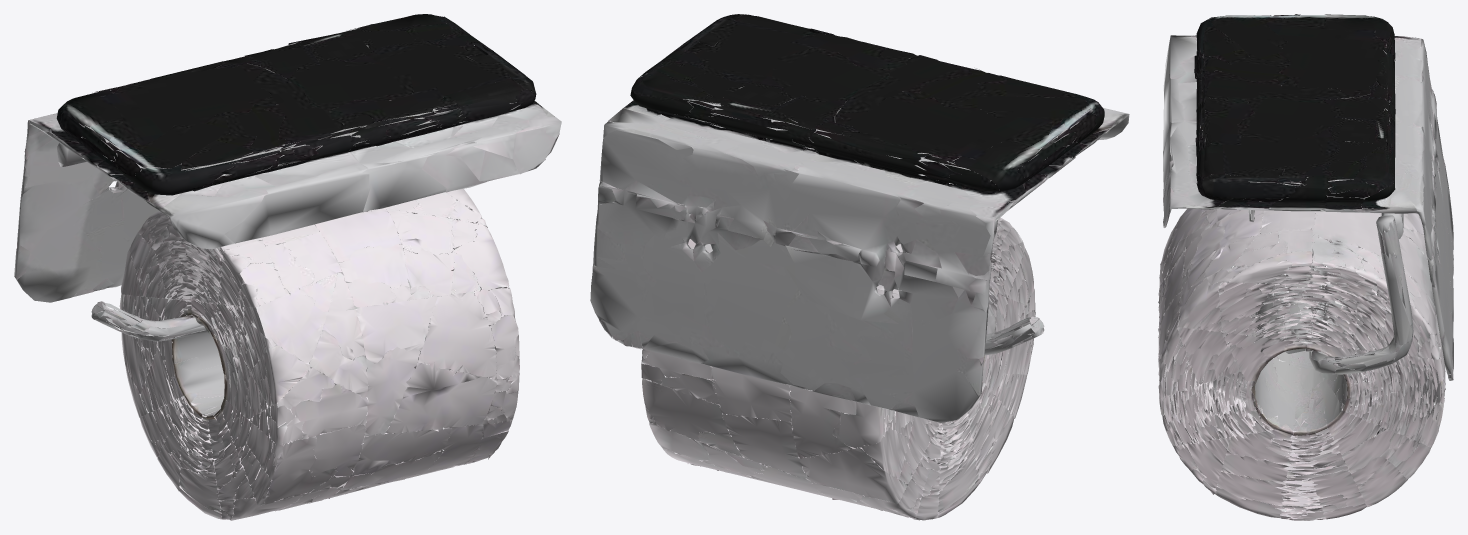
The model's file is bath-paper-holder.glb.
The picture shows the model from 3 angles, left to right: view 1: azimuth 30°, elevation 25°; view 2: azimuth 150°, elevation 25°; view 3: azimuth 270°, elevation 25°; orthographic projection. The views are drawn at different scales.
Parts seen in each view (by area): view 1: Mesh_0; view 2: Mesh_0; view 3: Mesh_0.
Part boxes in pixels (box(x1,y1,x2,y2)): Mesh_0: box(14, 14, 561, 520); Mesh_0: box(590, 14, 1129, 520); Mesh_0: box(1158, 14, 1453, 520).
Size of the model in its own units: 1.91 by 1.84 by 1.37.
Materials: 1 (1 with a texture image).
